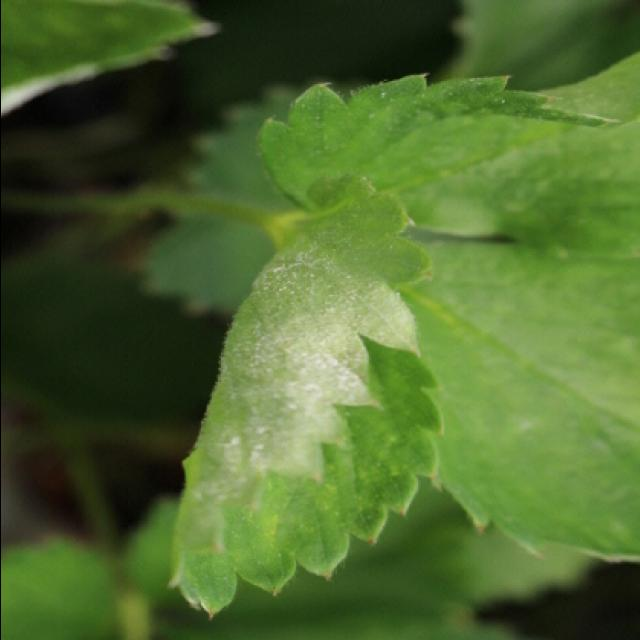Powdery Mildew Leaf: (164, 171, 445, 620)
